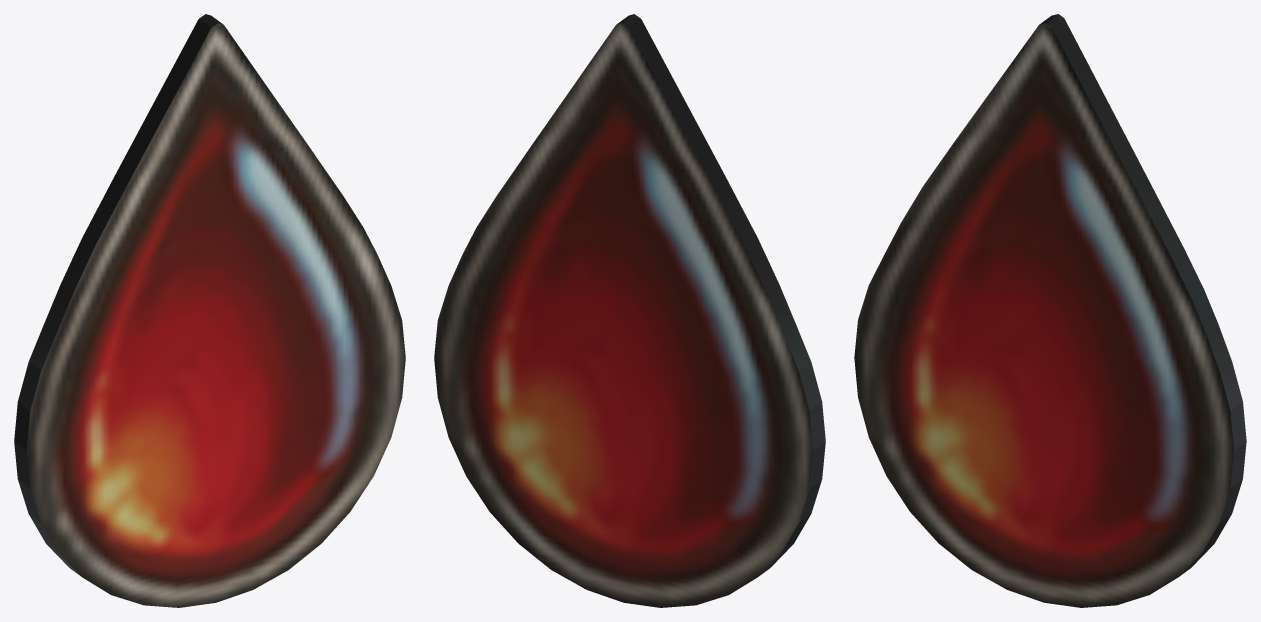
File: Health.glb
The picture shows the model from 3 angles, left to right: view 1: azimuth 30°, elevation 25°; view 2: azimuth 150°, elevation 25°; view 3: azimuth 330°, elevation 25°; orthographic projection.
Parts seen in each view (by area): view 1: Circle.001; view 2: Circle.001; view 3: Circle.001.
Part boxes in pixels (x1,y1,x2,y2): Circle.001: (14, 14, 405, 607); Circle.001: (434, 14, 825, 607); Circle.001: (854, 14, 1246, 607).
Size of the model in its own units: 1.57 by 2.29 by 0.09.
Materials: 1 (1 with a texture image).
